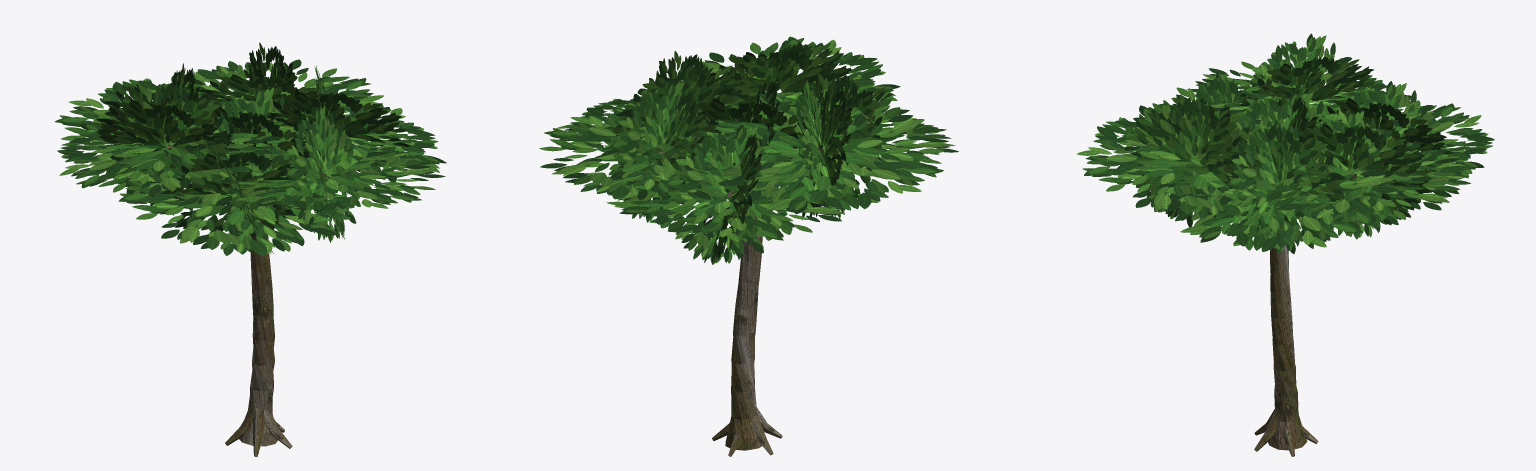
File: jtree_a.glb
3 renders of one model, left to right at view 1: azimuth 30°, elevation 25°; view 2: azimuth 150°, elevation 25°; view 3: azimuth 270°, elevation 25°, orthographic. The views are drawn at different scales.
Visible parts, largest first — view 1: leaves, bark; view 2: leaves, bark; view 3: leaves, bark.
Boxes of the visible parts, x1=… form: leaves: x1=55, y1=42, x2=446, y2=256; bark: x1=167, y1=137, x2=326, y2=456; leaves: x1=539, y1=36, x2=958, y2=264; bark: x1=660, y1=96, x2=823, y2=456; leaves: x1=1077, y1=33, x2=1494, y2=253; bark: x1=1192, y1=162, x2=1356, y2=456.
Bounding box in the file's own units: 1.23 × 0.9953 × 1.24.
Materials: 2 (2 with a texture image).
